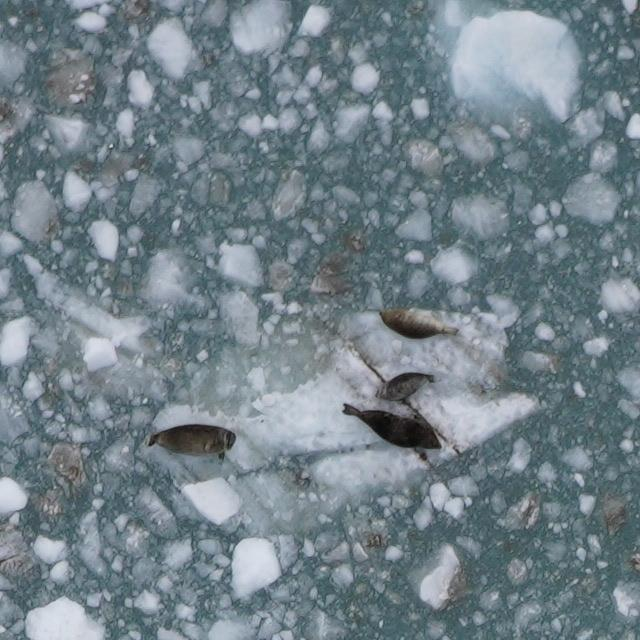seal: (337, 400, 446, 457), (141, 420, 242, 467), (373, 304, 463, 343), (368, 370, 440, 410)
